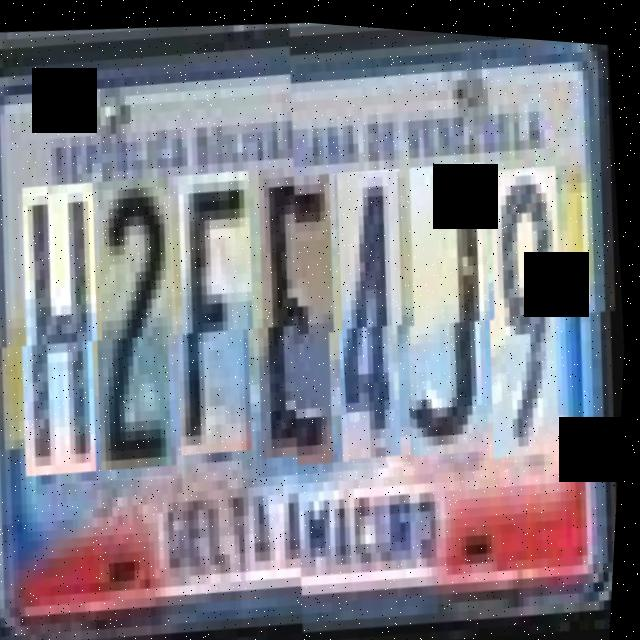2: (83, 180, 201, 482)
4: (324, 161, 432, 462)
9: (475, 158, 588, 460)
E: (244, 167, 362, 469)
F: (164, 174, 280, 467)
H: (7, 186, 125, 488)
J: (394, 154, 517, 457)
